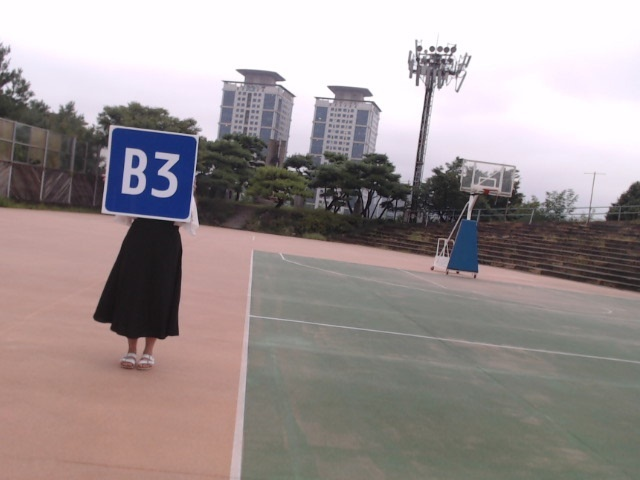delivery_b3: (103, 126, 197, 221)
